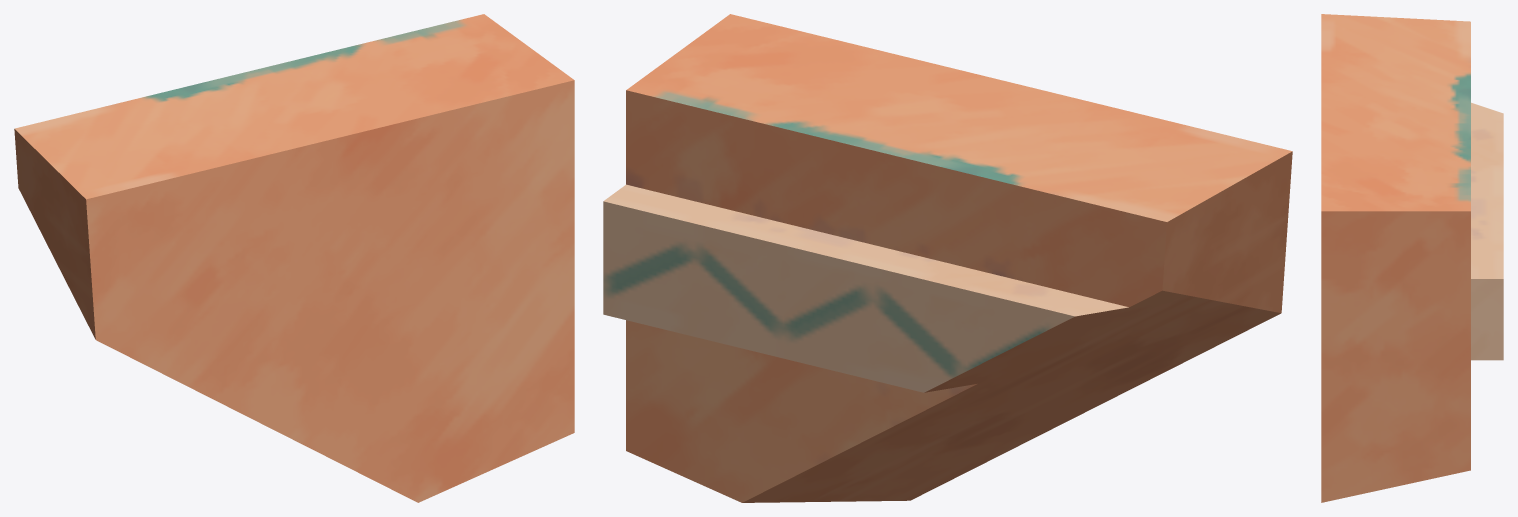
Rendered from wall2_window_s07.fbx.
3 views of the same model, side by side, from view 1: azimuth 30°, elevation 25°; view 2: azimuth 150°, elevation 25°; view 3: azimuth 270°, elevation 25° (orthographic). The views are drawn at different scales.
Parts seen in each view (by area): view 1: wall2_window_s07; view 2: wall2_window_s07; view 3: wall2_window_s07.
Boxes of the visible parts, bbox=[...] form: wall2_window_s07: bbox=[14, 14, 574, 502]; wall2_window_s07: bbox=[603, 14, 1292, 502]; wall2_window_s07: bbox=[1321, 14, 1503, 502].
Size of the model in its own units: 3.12 by 2.35 by 1.22.
